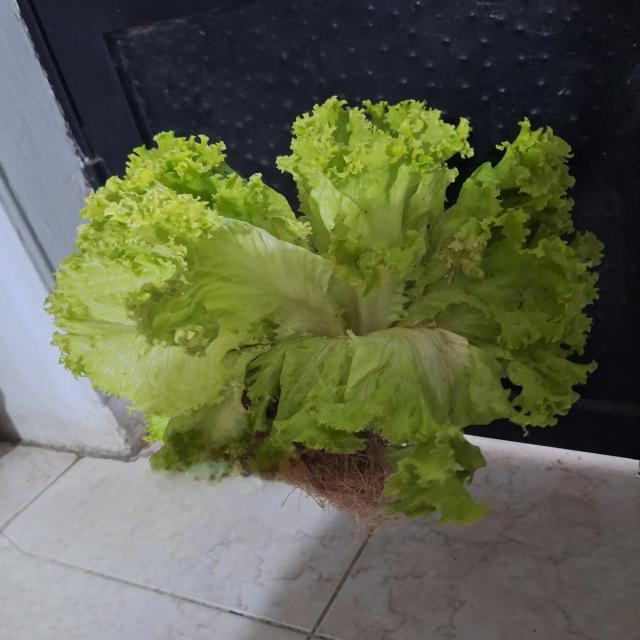lista_para_cosechar: (46, 98, 602, 523)
